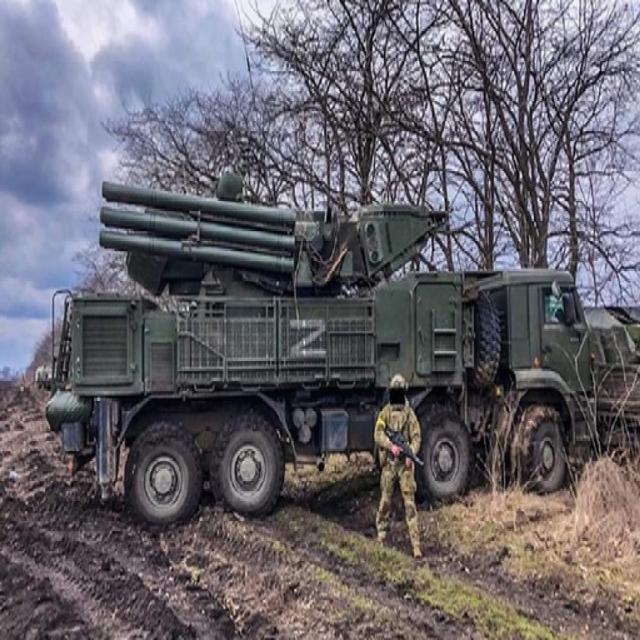MLRS: (42, 155, 592, 529)
